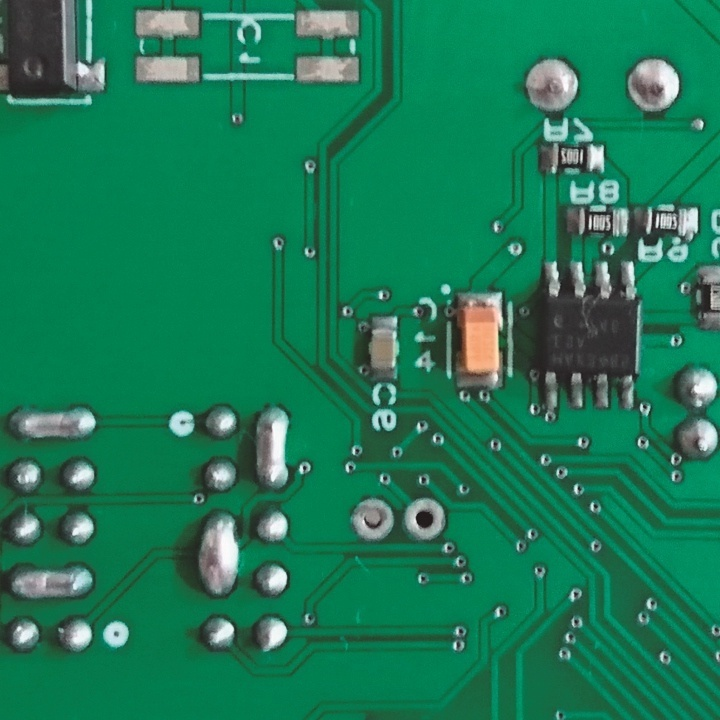F: (521, 55, 582, 114), (624, 55, 682, 115), (400, 493, 447, 545), (350, 493, 396, 546)
P: (249, 400, 295, 490), (8, 402, 102, 446), (195, 509, 240, 600), (6, 559, 99, 603)
